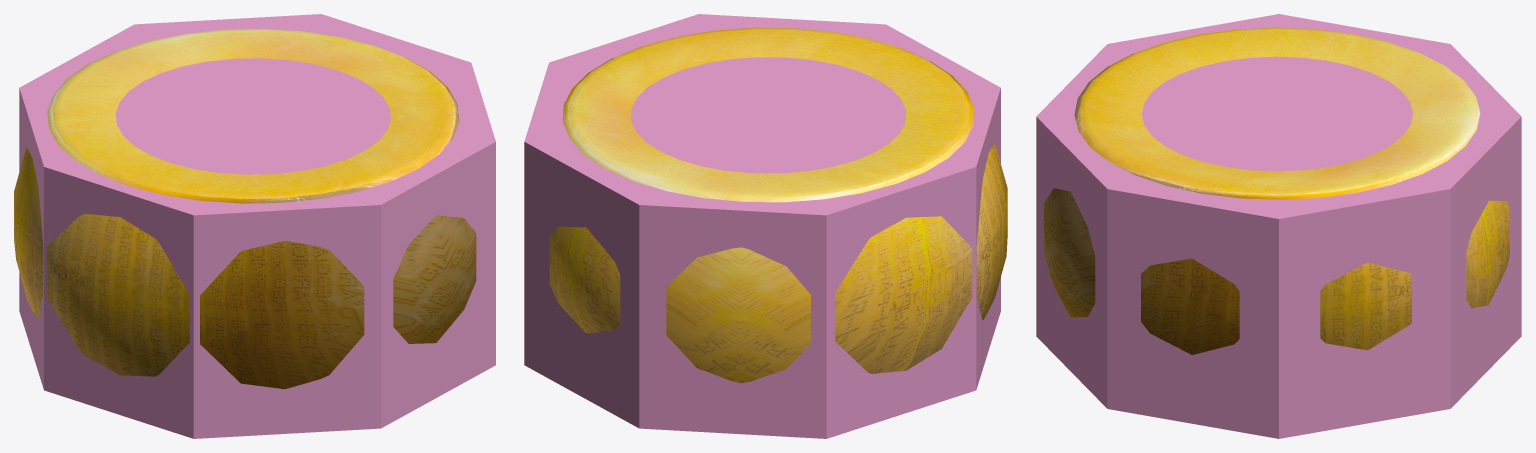
The model's file is cheese1Big.fbx.
3 renders of one model, left to right at view 1: azimuth 30°, elevation 25°; view 2: azimuth 150°, elevation 25°; view 3: azimuth 270°, elevation 25°, orthographic.
Parts seen in each view (by area): view 1: UCL_chezbargo1, small_cheese2; view 2: UCL_chezbargo1, small_cheese2; view 3: UCL_chezbargo1, small_cheese2.
Part boxes in pixels (box(x1,y1,x2,y2)): UCL_chezbargo1: box(19, 14, 495, 438); small_cheese2: box(14, 29, 476, 389); UCL_chezbargo1: box(524, 14, 1000, 438); small_cheese2: box(549, 27, 1007, 383); UCL_chezbargo1: box(1036, 14, 1521, 438); small_cheese2: box(1044, 27, 1509, 354).
Bounding box in the file's own units: 33.58 × 17.07 × 33.58.
